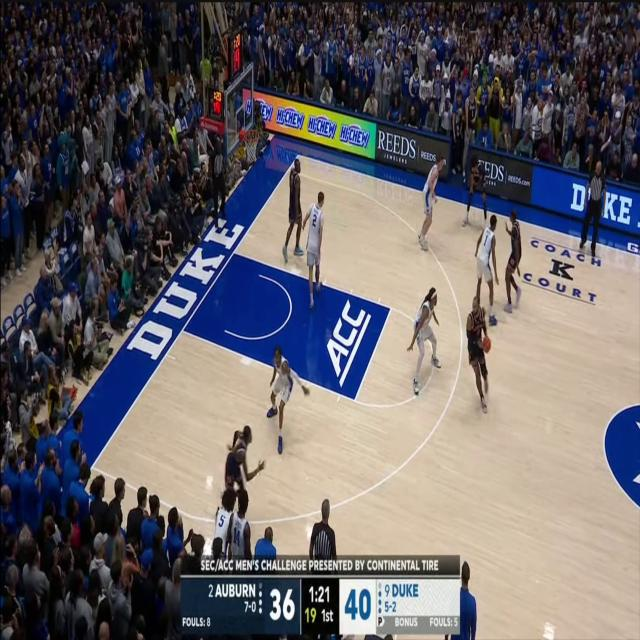basketball: (478, 319, 502, 374)
